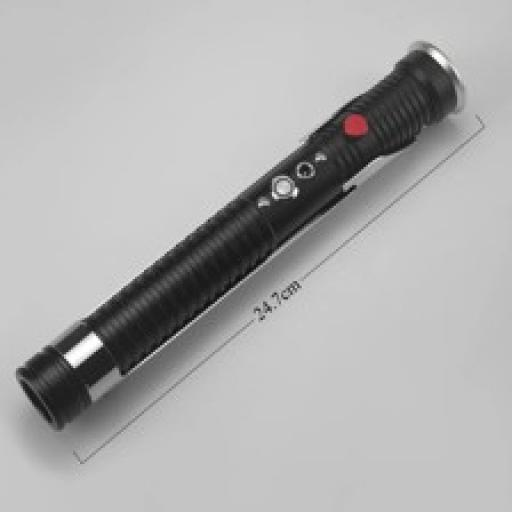lightsaber: (15, 39, 468, 435)
